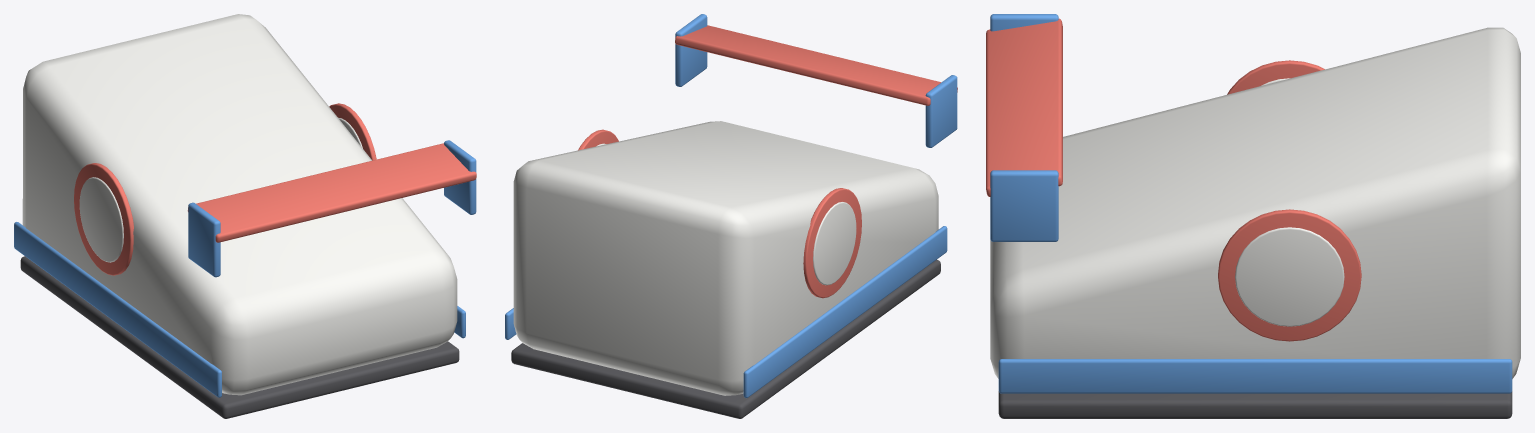
File: Skrzynia_Wyscigowa.fbx
3 renders of one model, left to right at view 1: azimuth 30°, elevation 25°; view 2: azimuth 150°, elevation 25°; view 3: azimuth 270°, elevation 25°, orthographic. The views are drawn at different scales.
Parts seen in each view (by area): view 1: Skrzynia_Wyscigowa; view 2: Skrzynia_Wyscigowa; view 3: Skrzynia_Wyscigowa.
Part boxes in pixels (<box>): Skrzynia_Wyscigowa: <box>14,14,476,418</box>; Skrzynia_Wyscigowa: <box>505,14,957,418</box>; Skrzynia_Wyscigowa: <box>986,14,1520,418</box>.
Size of the model in its own units: 2.22 by 1.67 by 3.12.
